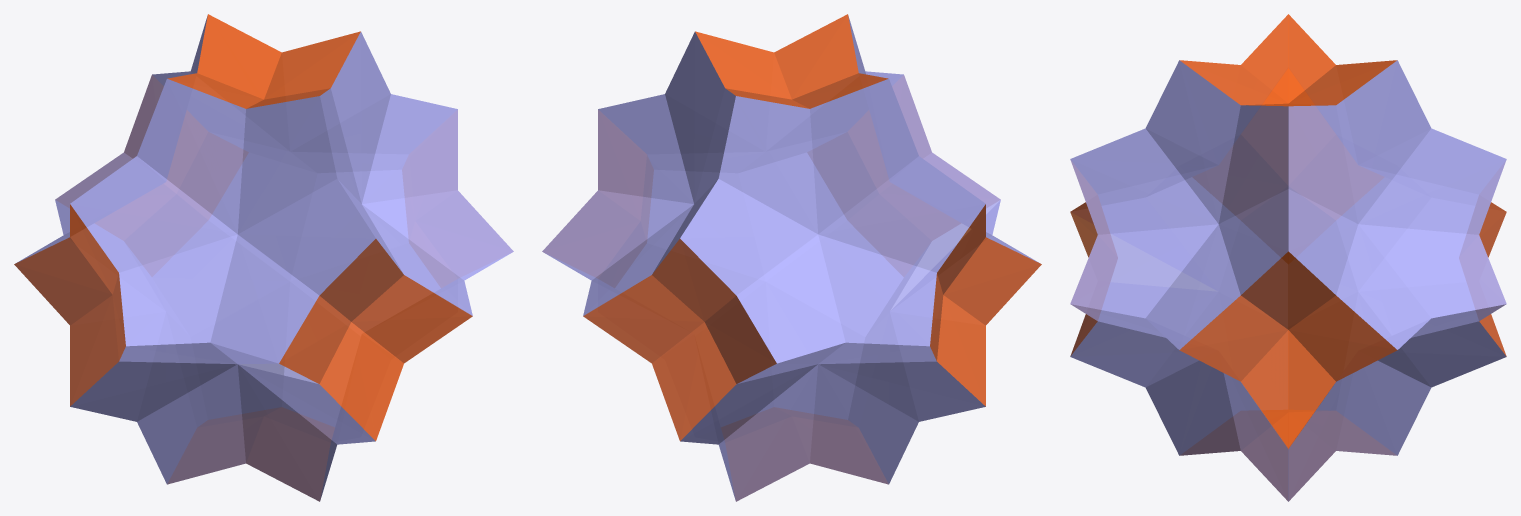
File: Truncated_Octahedron.obj
3 renders of one model, left to right at view 1: azimuth 30°, elevation 25°; view 2: azimuth 150°, elevation 25°; view 3: azimuth 270°, elevation 25°, orthographic. The views are drawn at different scales.
Bounding box in the file's own units: 2.83 × 2.83 × 2.83.
